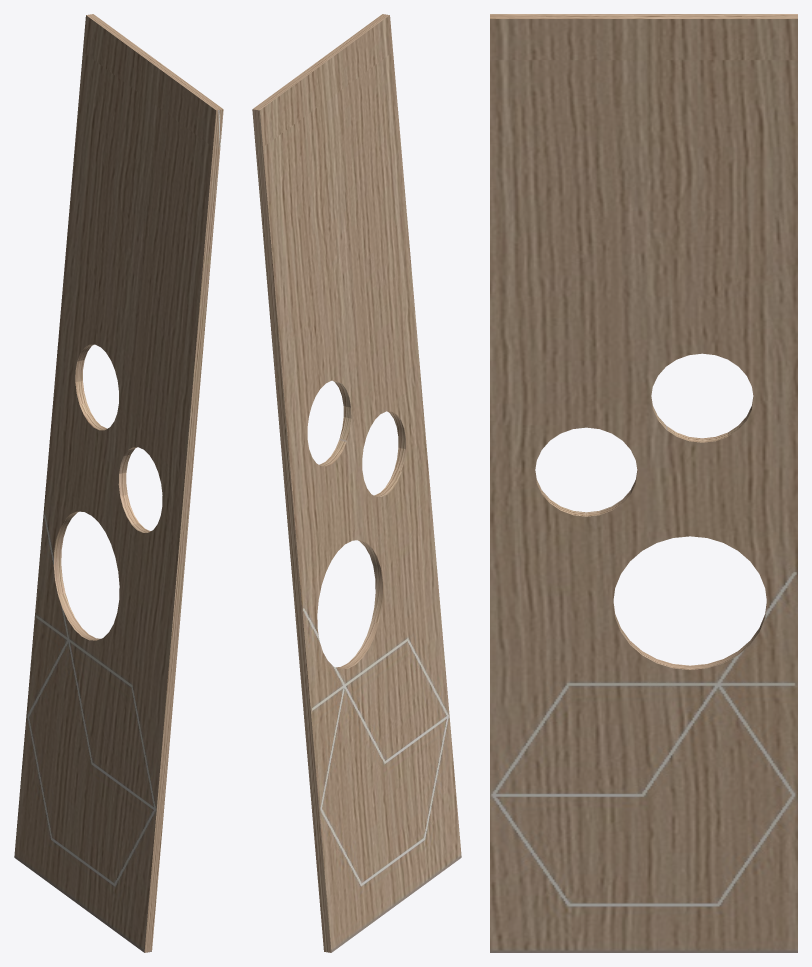
Rendered from AITHOUSA I_a_part5.fbx.
The picture shows the model from 3 angles, left to right: view 1: azimuth 30°, elevation 25°; view 2: azimuth 150°, elevation 25°; view 3: azimuth 270°, elevation 25°; orthographic projection. The views are drawn at different scales.
Visible parts, largest first — view 1: Mass Element <Standard> Body; view 2: Mass Element <Standard> Body; view 3: Mass Element <Standard> Body.
Part boxes in pixels (<box>): Mass Element <Standard> Body: <box>14,14,223,952</box>; Mass Element <Standard> Body: <box>252,14,461,952</box>; Mass Element <Standard> Body: <box>490,14,797,952</box>.
Size of the model in its own units: 0.2106 by 2.1 by 0.6.
Materials: 1 (1 with a texture image).
